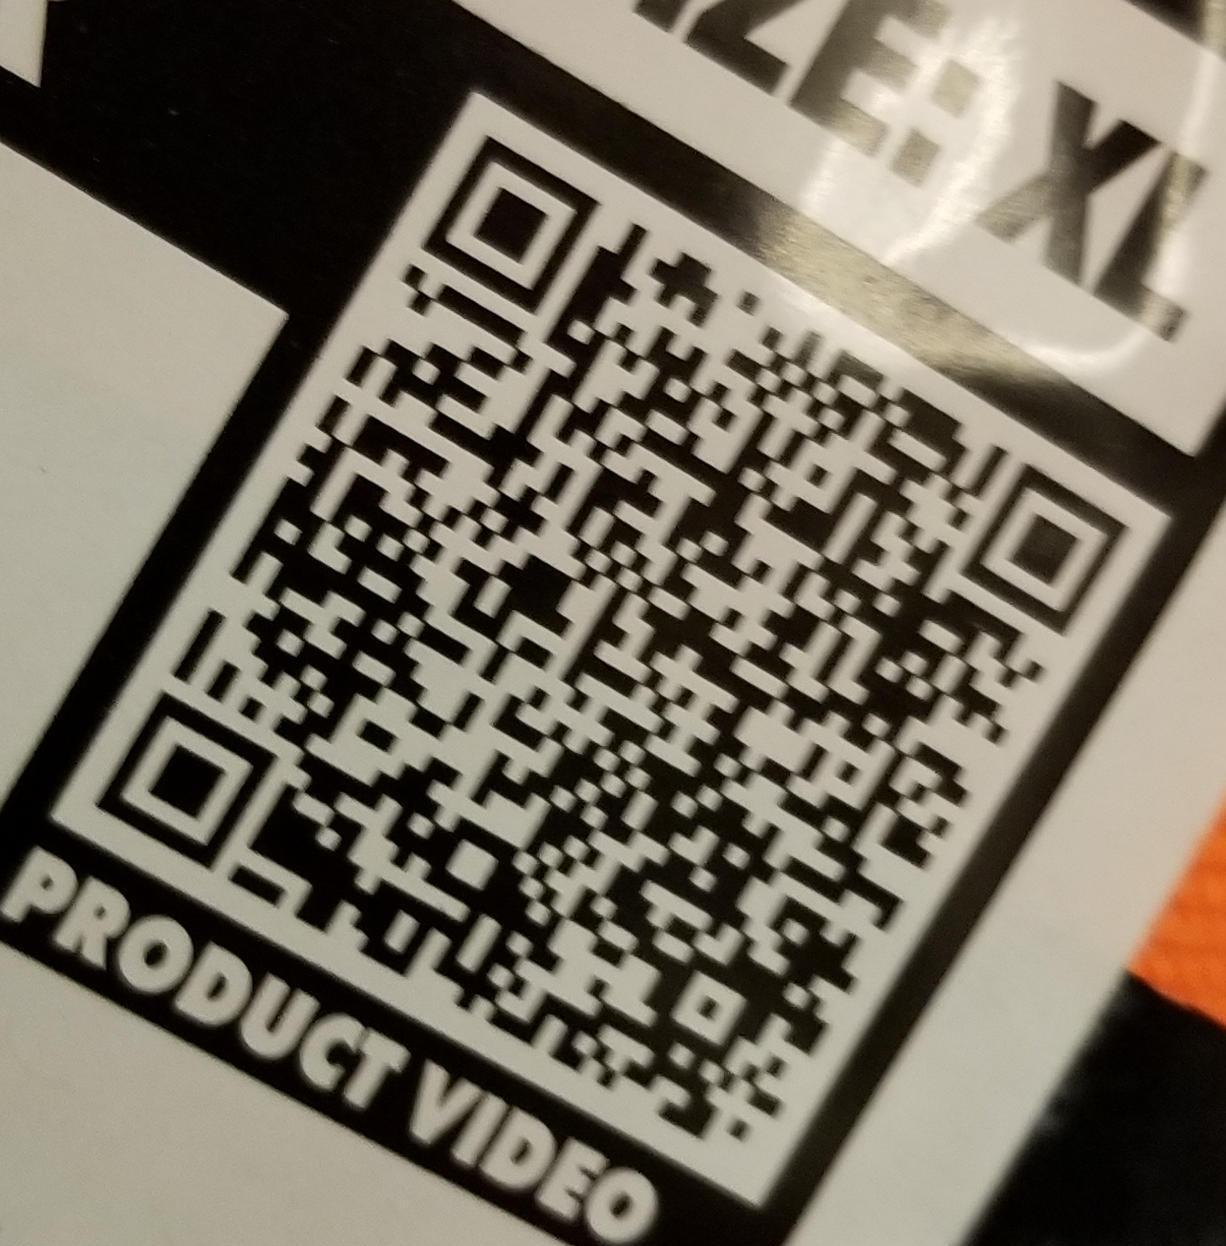qrcode: (97, 134, 1129, 1142)
